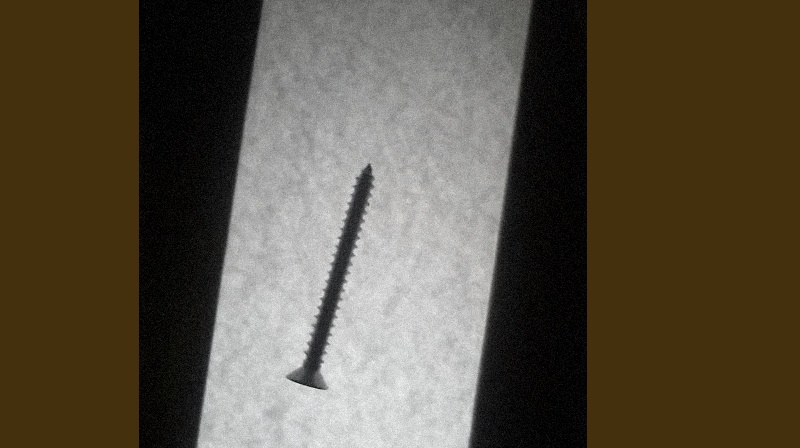S002: (280, 157, 375, 394)
